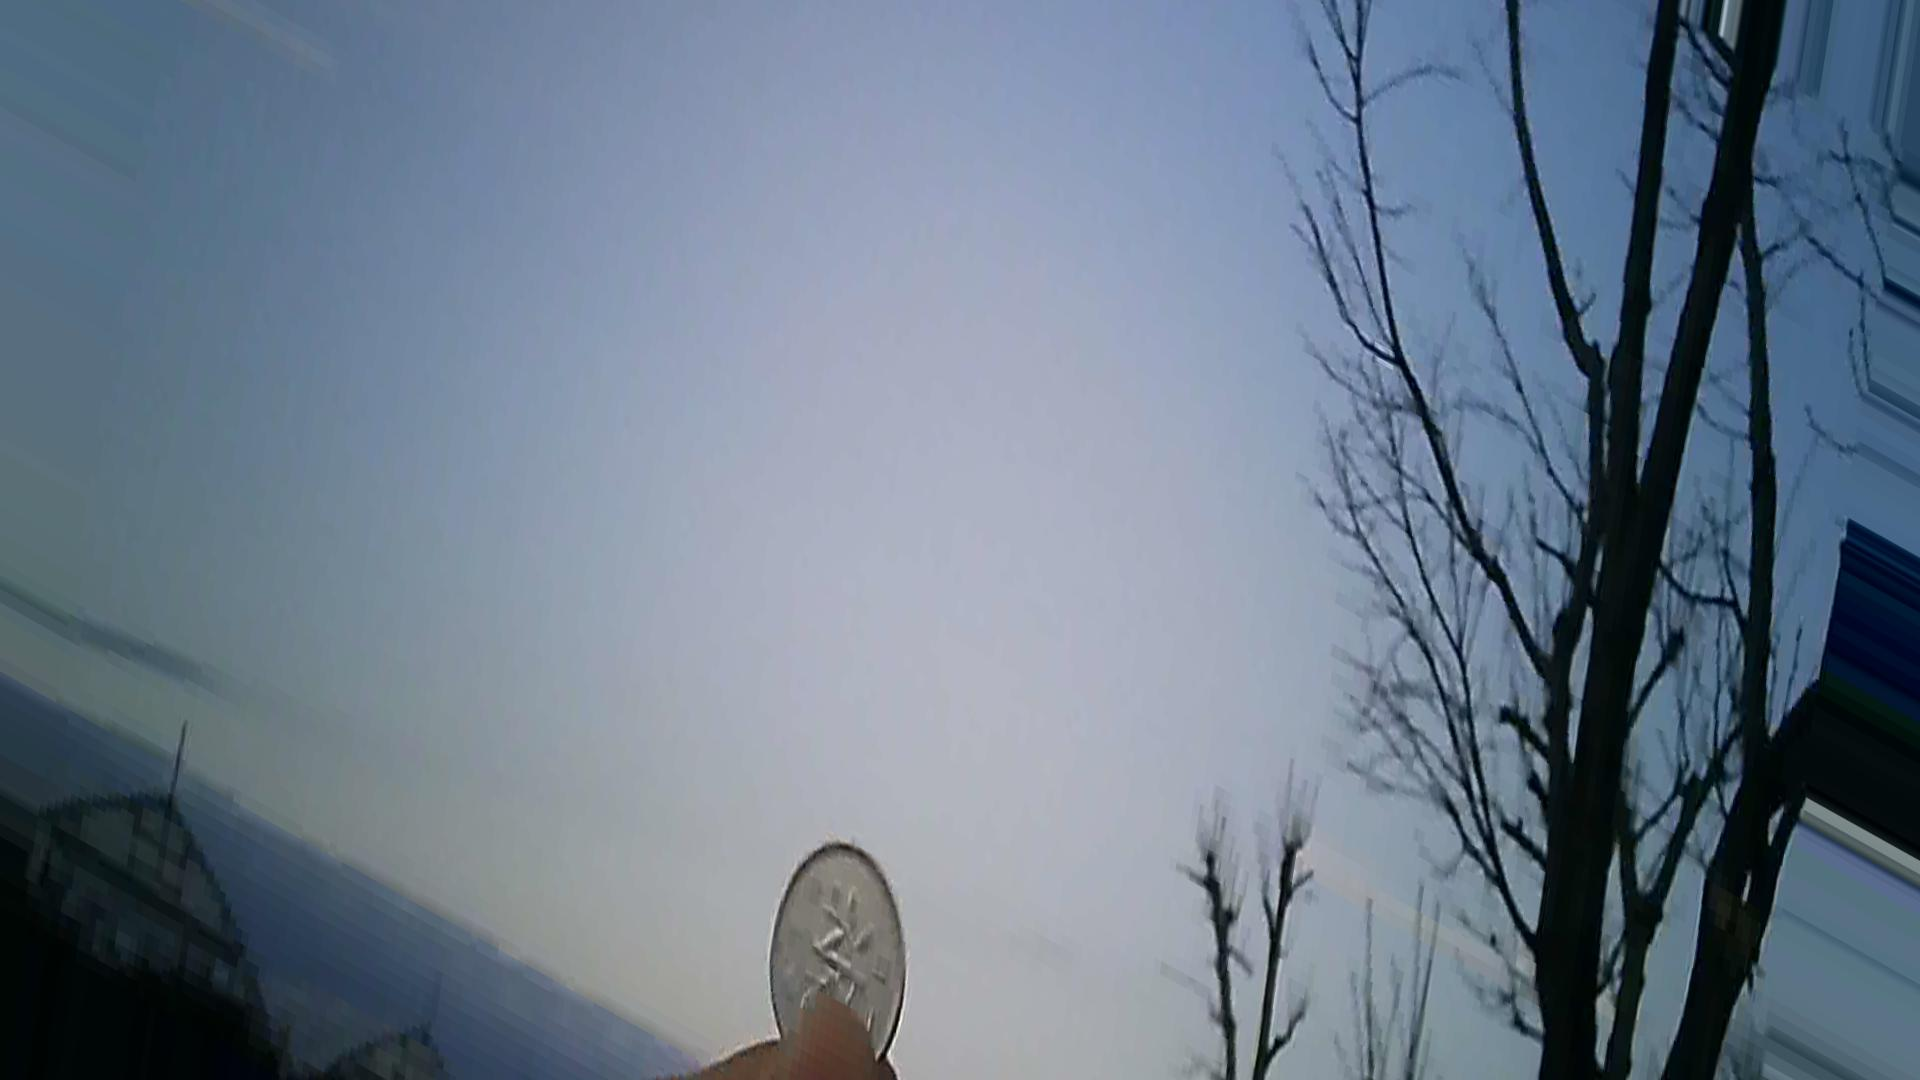1 Yen: (741, 831, 913, 1069)
